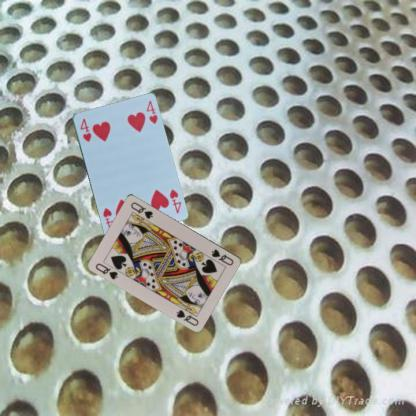4h: (167, 187, 182, 214), (78, 116, 92, 143)
Qs: (209, 246, 235, 267), (93, 260, 120, 280)
